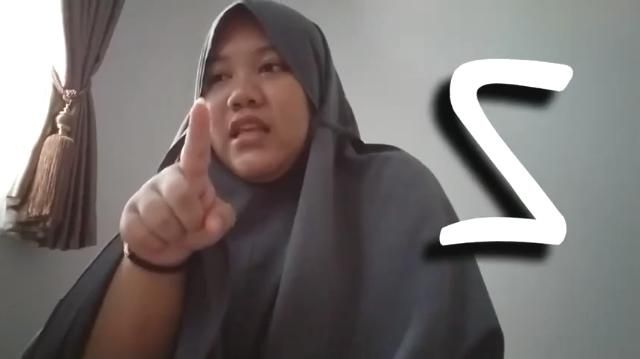Z: (115, 98, 237, 268)
